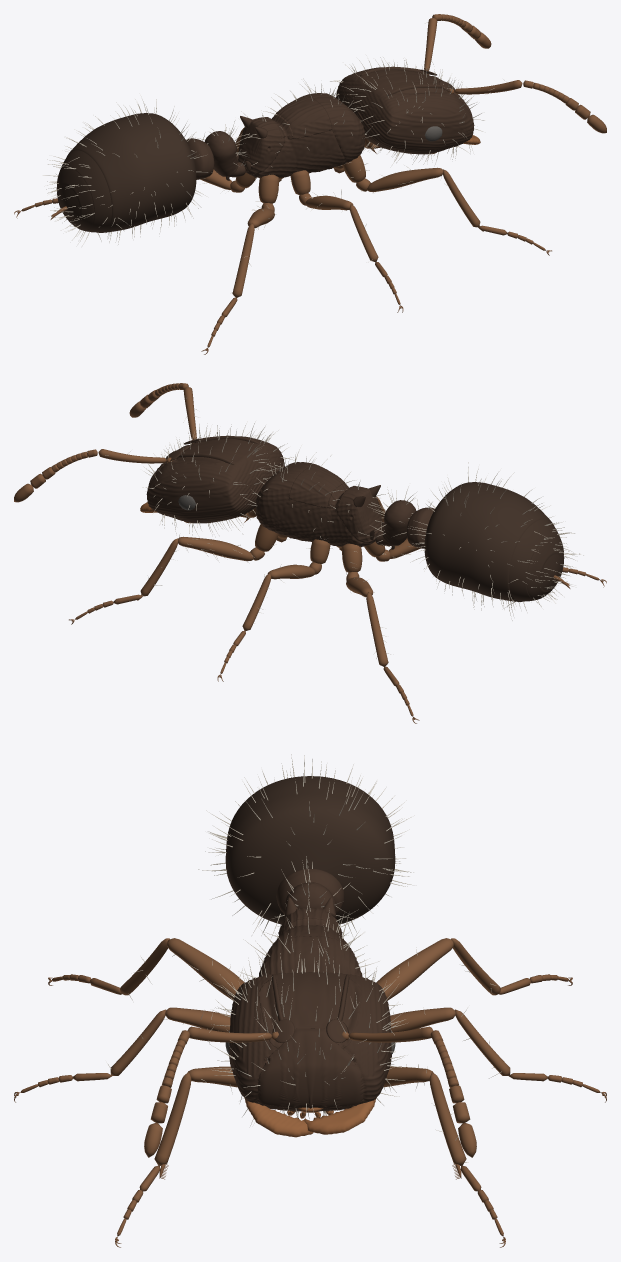
File: tetramorium_lite.glb
3 renders of one model, top to bottom at view 1: azimuth 30°, elevation 25°; view 2: azimuth 150°, elevation 25°; view 3: azimuth 270°, elevation 25°, orthographic. The views are drawn at different scales.
Parts seen in each view (by area): view 1: gaster-IV, x-head-capsule, mesosoma, gaster-V, hl-propodeum, hl-pronotum, hl-mesonotum, x-setae-gaster, petiole, gaster-VI, x-setae-head, x-femur-fore_R (+9 smaller); view 2: gaster-IV, x-head-capsule, mesosoma, gaster-V, hl-pronotum, hl-propodeum, hl-mesonotum, x-setae-gaster, petiole, gaster-VI, x-setae-head, x-femur-fore_L (+9 smaller); view 3: gaster-IV, x-head-capsule, clypeus, hl-pronotum, x-setae-head, x-setae-gaster, x-femur-hind_L, x-femur-hind_R, postpetiole, mandible_L, mandible_R, x-tibia-fore_R (+19 smaller).
Part boxes in pixels (<box>): gaster-IV: <box>67,113,196,232</box>; x-head-capsule: <box>336,67,474,154</box>; mesosoma: <box>246,130,346,177</box>; gaster-V: <box>57,150,111,232</box>; hl-propodeum: <box>238,117,284,174</box>; hl-pronotum: <box>304,93,365,162</box>; hl-mesonotum: <box>276,95,331,139</box>; x-setae-gaster: <box>43,95,211,245</box>; petiole: <box>204,131,245,180</box>; gaster-VI: <box>56,167,94,230</box>; x-setae-head: <box>330,57,484,164</box>; x-femur-fore_R: <box>367,167,442,192</box>; gaster-IV: <box>424,482,553,601</box>; x-head-capsule: <box>146,436,285,523</box>; mesosoma: <box>274,499,374,546</box>; gaster-V: <box>509,519,563,601</box>; hl-pronotum: <box>255,462,316,531</box>; hl-propodeum: <box>336,486,382,542</box>; hl-mesonotum: <box>289,464,344,508</box>; x-setae-gaster: <box>408,462,583,620</box>; petiole: <box>375,500,416,549</box>; gaster-VI: <box>526,536,564,599</box>; x-setae-head: <box>143,421,294,535</box>; x-femur-fore_L: <box>178,536,253,561</box>; gaster-IV: <box>225,776,395,924</box>; x-head-capsule: <box>229,972,391,1111</box>; clypeus: <box>257,1028,363,1108</box>; hl-pronotum: <box>259,936,362,976</box>; x-setae-head: <box>210,948,410,1125</box>; x-setae-gaster: <box>198,754,414,937</box>; x-femur-hind_L: <box>376,938,453,1000</box>; x-femur-hind_R: <box>167,938,244,1000</box>; postpetiole: <box>276,868,344,914</box>; mandible_L: <box>304,1099,375,1134</box>; mandible_R: <box>244,1097,313,1137</box>; x-tibia-fore_R: <box>154,1072,191,1165</box>.
Bounding box in the file's own units: 3.76 × 1.32 × 2.8.
